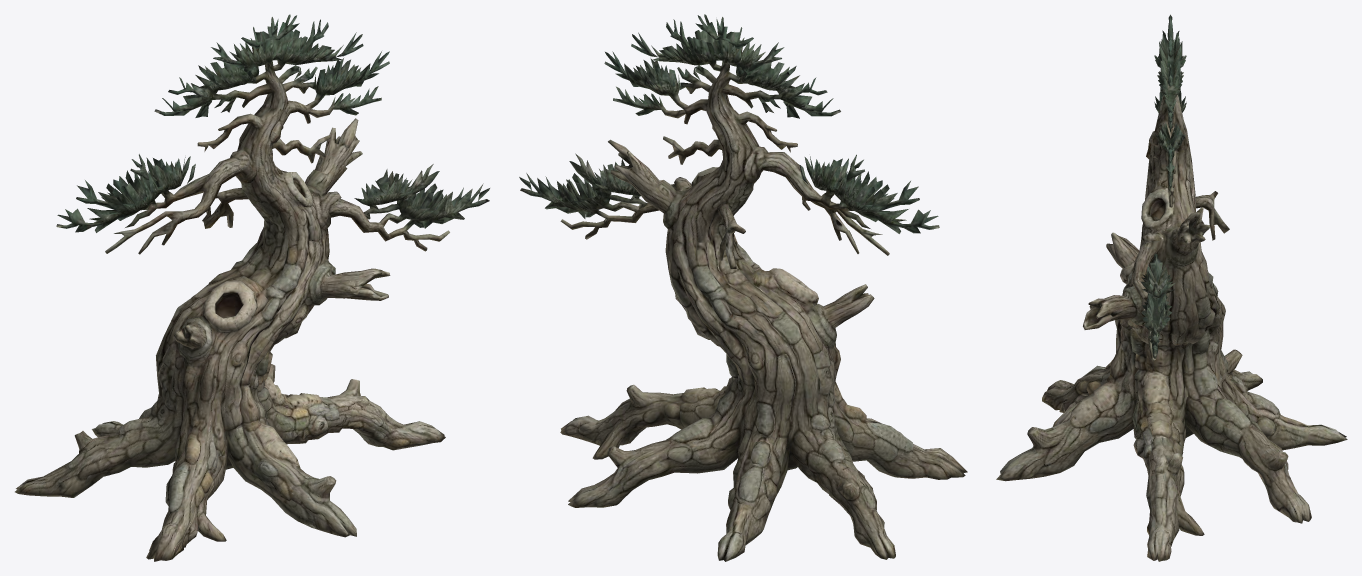
The model's file is tr_grave_pine.glb.
3 renders of one model, left to right at view 1: azimuth 30°, elevation 25°; view 2: azimuth 150°, elevation 25°; view 3: azimuth 270°, elevation 25°, orthographic.
Visible parts, largest first — view 1: tr_grave_pine; view 2: tr_grave_pine; view 3: tr_grave_pine.
Boxes of the visible parts, x1=… form: tr_grave_pine: x1=15, y1=14, x2=489, y2=561; tr_grave_pine: x1=519, y1=14, x2=967, y2=561; tr_grave_pine: x1=996, y1=14, x2=1347, y2=561.
Bounding box in the file's own units: 10.78 × 11 × 7.77.
1 material, 1 textured.
